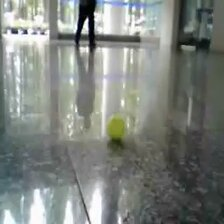tennis: (106, 116, 126, 140)
